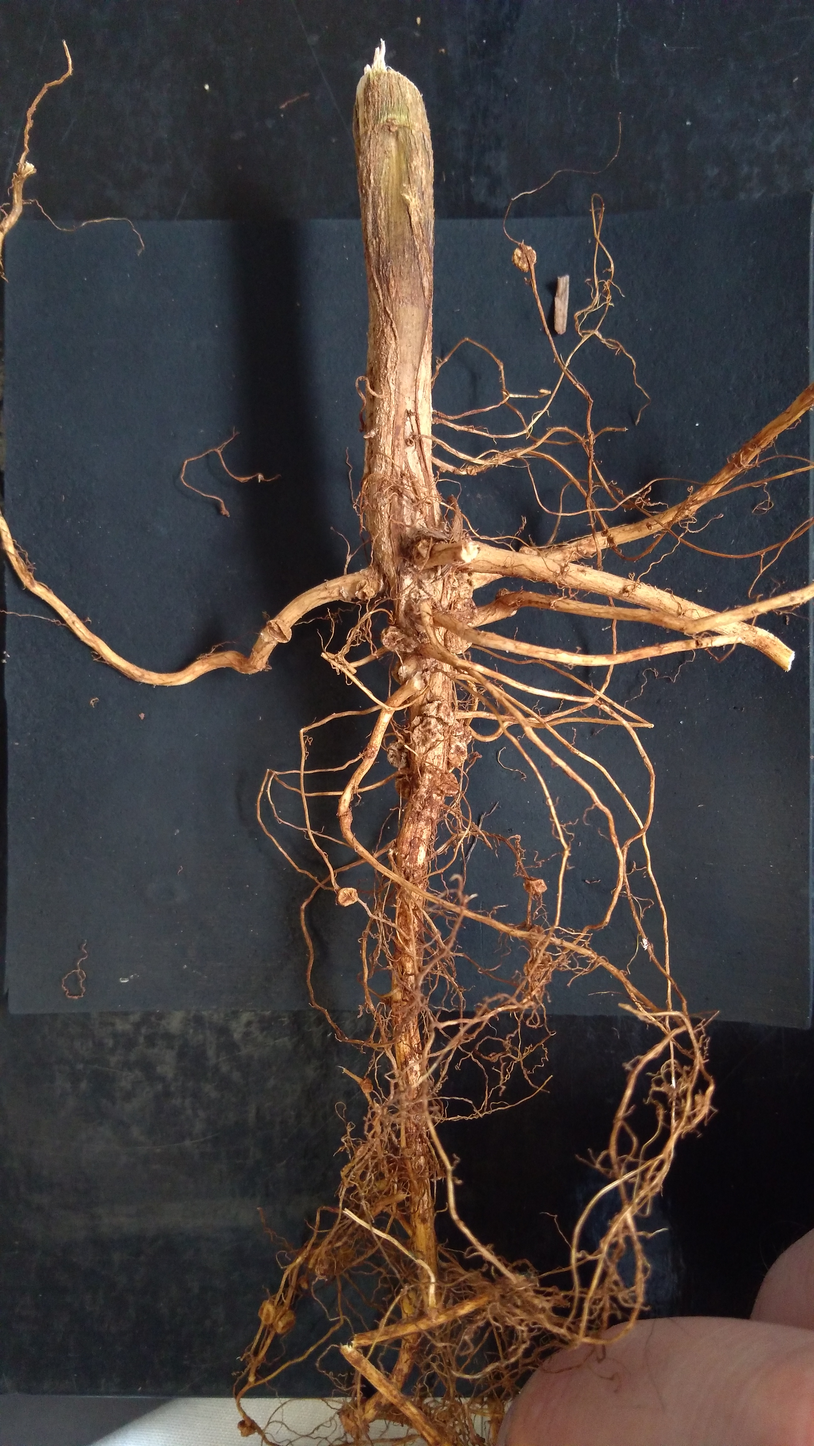nodule: (409, 714, 447, 753), (417, 696, 457, 730), (441, 623, 479, 658), (509, 243, 544, 276), (449, 594, 480, 628), (493, 583, 520, 621), (378, 625, 409, 658), (445, 732, 470, 772), (263, 617, 294, 647), (269, 1305, 297, 1337), (331, 884, 365, 909), (433, 770, 462, 799), (385, 740, 410, 770), (253, 1296, 277, 1325), (391, 657, 415, 685), (521, 875, 550, 898), (394, 772, 414, 803), (354, 577, 378, 602), (235, 1417, 260, 1439), (453, 581, 474, 601), (516, 543, 540, 558), (295, 1272, 313, 1292), (360, 1075, 375, 1096), (645, 519, 654, 534), (599, 528, 611, 538), (488, 1052, 498, 1062)
